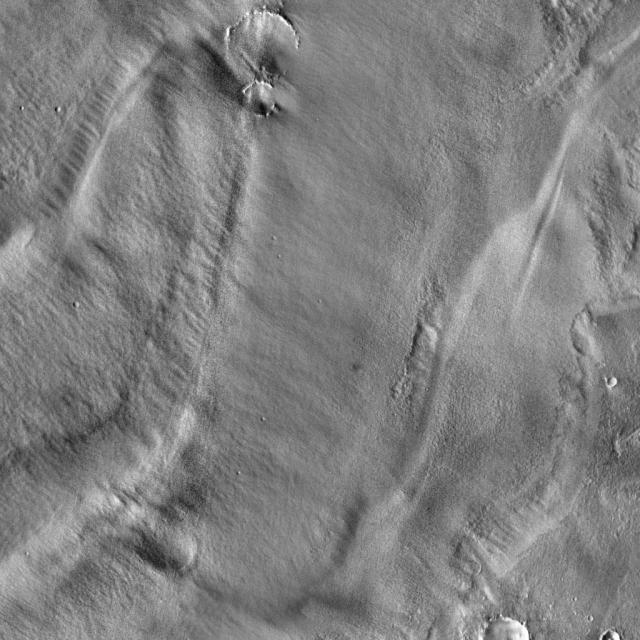crater: (571, 298, 640, 374), (483, 617, 530, 640), (415, 325, 438, 349), (588, 216, 604, 230), (602, 630, 619, 640), (219, 180, 231, 190), (34, 168, 44, 178), (608, 376, 618, 386), (154, 30, 165, 39), (63, 395, 73, 404), (141, 463, 151, 472), (152, 147, 162, 156), (395, 490, 405, 499), (603, 132, 614, 140), (287, 181, 296, 190), (349, 364, 359, 372), (519, 592, 528, 600), (433, 321, 442, 329), (188, 607, 197, 615), (614, 450, 621, 458), (259, 65, 265, 71), (55, 106, 61, 112), (73, 302, 79, 308), (521, 620, 526, 626), (586, 478, 592, 483), (24, 551, 29, 556), (588, 616, 593, 621), (572, 597, 577, 601), (317, 299, 322, 303), (272, 236, 276, 240), (237, 471, 241, 475), (261, 417, 265, 421), (20, 106, 24, 110)
